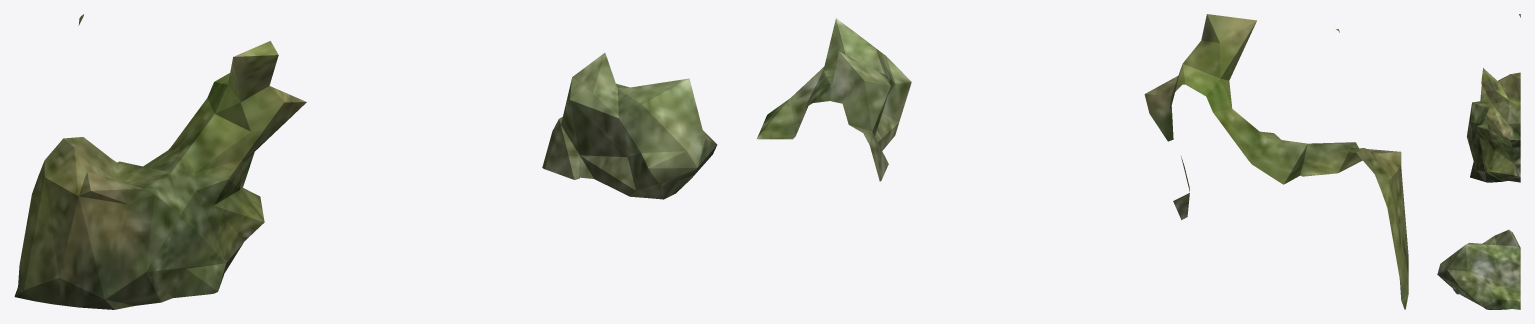
3 renders of one model, left to right at view 1: azimuth 30°, elevation 25°; view 2: azimuth 150°, elevation 25°; view 3: azimuth 270°, elevation 25°, orthographic. The views are drawn at different scales.
Size of the model in its own units: 4.29 by 1.64 by 0.875.
Materials: 1 (1 with a texture image).
